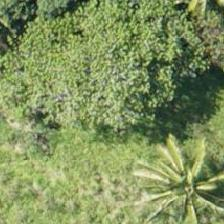coconut_tree: (140, 132, 223, 222)
